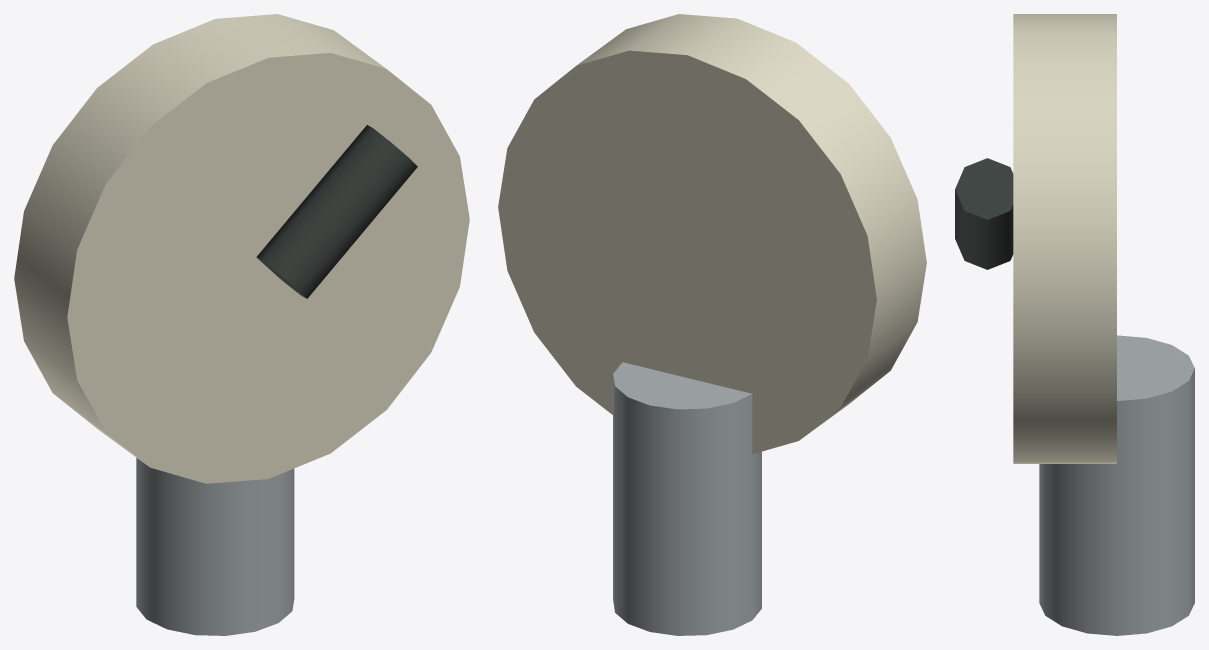
Rendered from scavengers-loot-library-pressure-gauge-187c4b8a__2592.glb.
3 renders of one model, left to right at view 1: azimuth 30°, elevation 25°; view 2: azimuth 150°, elevation 25°; view 3: azimuth 270°, elevation 25°, orthographic. The views are drawn at different scales.
Visible parts, largest first — view 1: pressure-gauge; view 2: pressure-gauge; view 3: pressure-gauge.
Boxes of the visible parts, x1,y1,x2,y2 form: pressure-gauge: [14, 14, 469, 635]; pressure-gauge: [498, 14, 926, 635]; pressure-gauge: [955, 14, 1194, 635].
Bounding box in the file's own units: 0.07 × 0.097 × 0.037.
